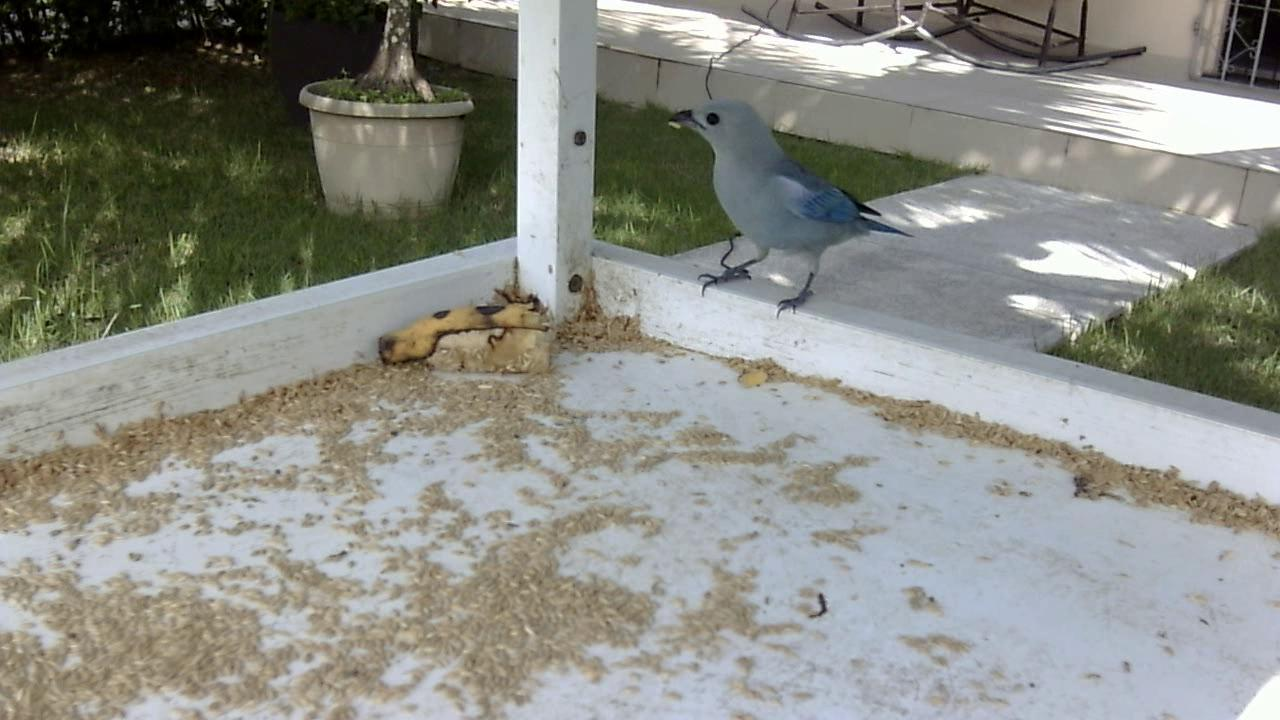sanhaco_da_amazonia: (655, 89, 919, 329)
